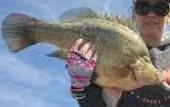Silver Perch: (4, 7, 164, 99)
